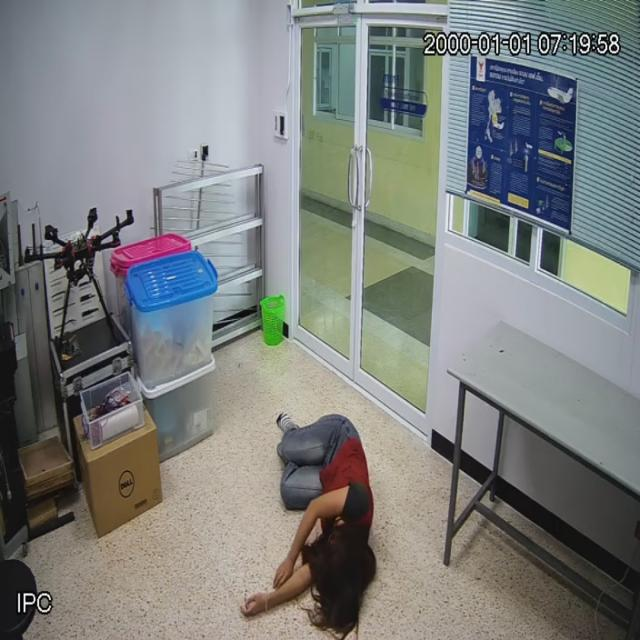fall: (250, 409, 373, 623)
